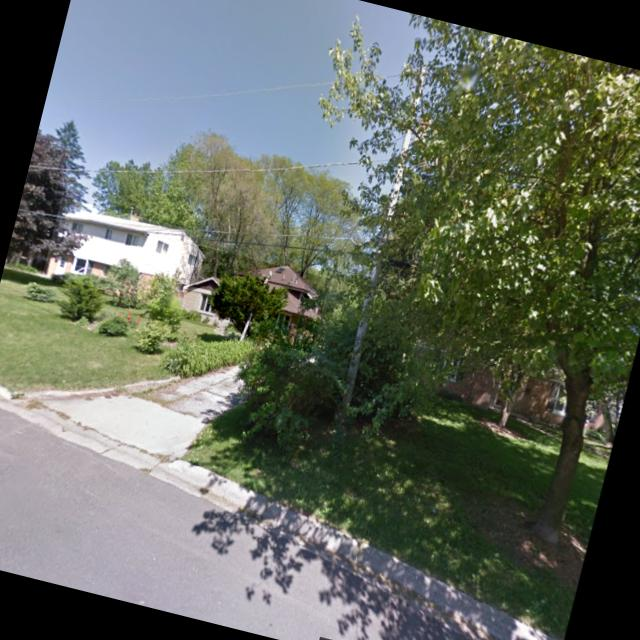House: (399, 313, 618, 438), (42, 197, 210, 311), (180, 245, 329, 353)
